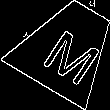M_NE: (32, 14, 102, 81)
